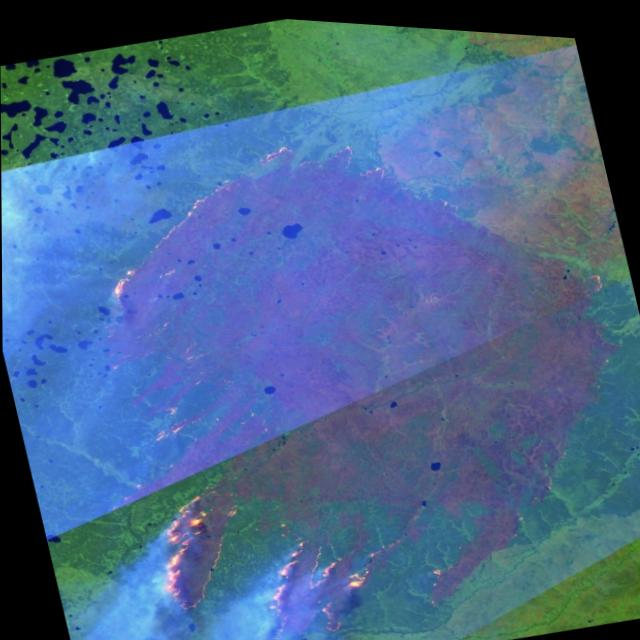fire: (146, 105, 413, 250), (242, 511, 411, 640), (138, 482, 239, 616), (74, 245, 176, 324), (575, 261, 608, 285)
